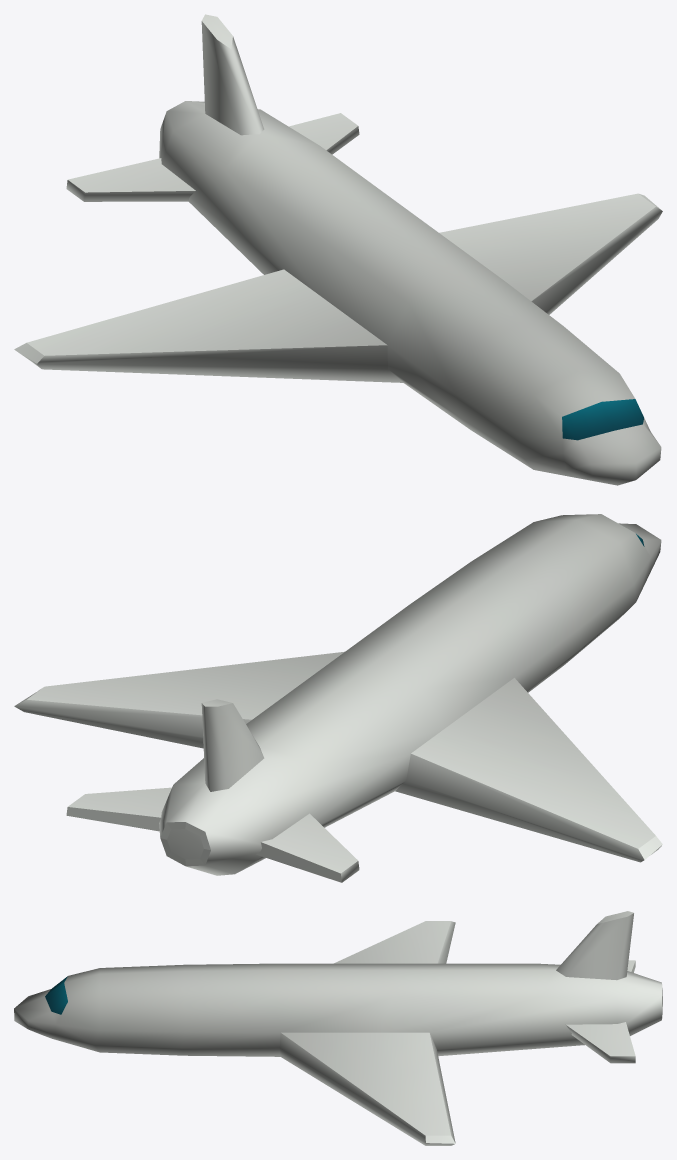
Rendered from Aircraft.fbx.
The picture shows the model from 3 angles, top to bottom: view 1: azimuth 30°, elevation 25°; view 2: azimuth 150°, elevation 25°; view 3: azimuth 270°, elevation 25°; orthographic projection. The views are drawn at different scales.
Visible parts, largest first — view 1: Aircraft; view 2: Aircraft; view 3: Aircraft.
Part boxes in pixels (<box>): Aircraft: <box>14,14,662,485</box>; Aircraft: <box>14,514,662,882</box>; Aircraft: <box>14,911,662,1145</box>.
Size of the model in its own units: 1228 by 355 by 1522.
